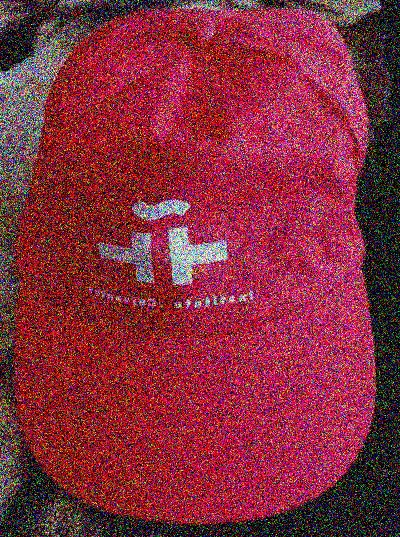Hat: (5, 0, 382, 518)
